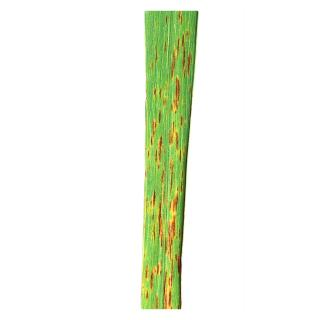Bercak-Cokelat-Sempit: (141, 11, 198, 309)
